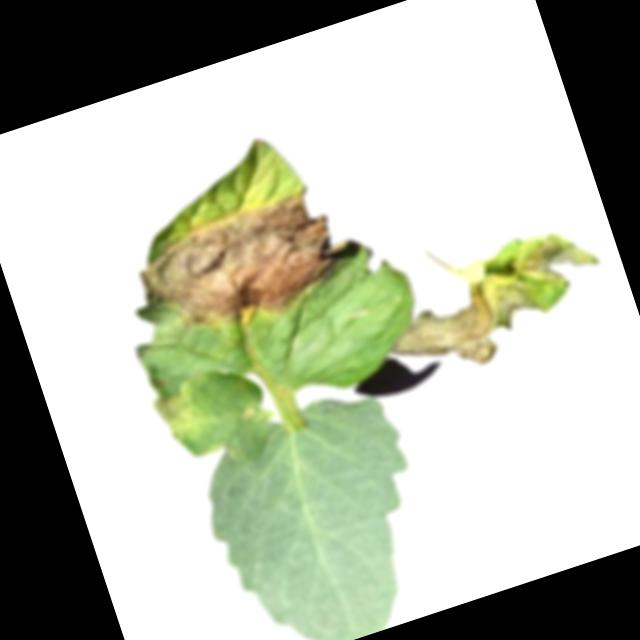Late_blight: (128, 174, 373, 353), (370, 216, 616, 389), (147, 376, 215, 449)
healthy: (181, 379, 453, 640)
